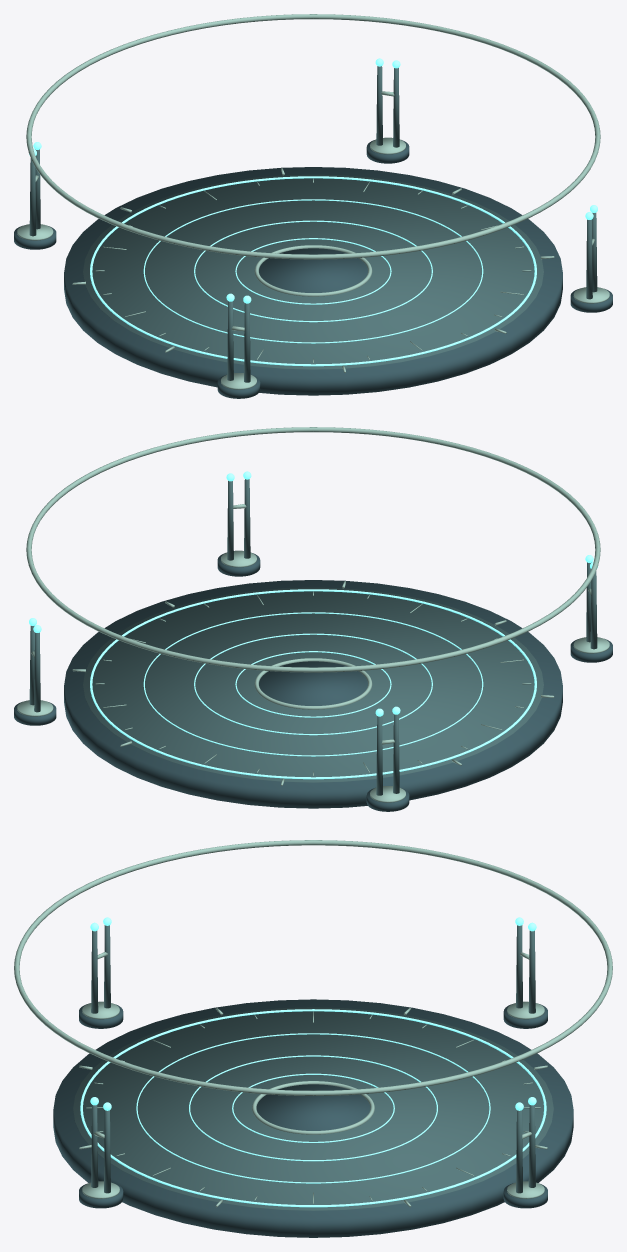
File: observatory.glb
3 renders of one model, top to bottom at view 1: azimuth 30°, elevation 25°; view 2: azimuth 150°, elevation 25°; view 3: azimuth 270°, elevation 25°, orthographic. The views are drawn at different scales.
Parts seen in each view (by area): view 1: walkable pearl slate disc, deep circular foundation, broken halo arc, central submerged well, survey distance circle.003, survey distance circle.002, bronze well lip, survey distance circle.001, survey distance circle, tuning fork prong.006, tuning fork prong.005; view 2: walkable pearl slate disc, deep circular foundation, broken halo arc, central submerged well, survey distance circle.003, survey distance circle.002, bronze well lip, survey distance circle.001, survey distance circle, tuning fork prong.001; view 3: walkable pearl slate disc, deep circular foundation, broken halo arc, central submerged well, survey distance circle.003, survey distance circle.002, bronze well lip, survey distance circle.001, survey distance circle, tuning fork prong, tuning fork prong.007, tuning fork prong.002 (+7 smaller).
Part boxes in pixels (x1,y1,x2,y2): walkable pearl slate disc: [83, 174, 543, 369]; deep circular foundation: [64, 167, 562, 395]; broken halo arc: [26, 14, 600, 259]; central submerged well: [259, 248, 367, 292]; survey distance circle.003: [90, 176, 536, 366]; survey distance circle.002: [143, 199, 483, 343]; bronze well lip: [254, 245, 372, 296]; survey distance circle.001: [194, 220, 432, 322]; survey distance circle: [235, 238, 391, 304]; tuning fork prong.006: [586, 219, 592, 299]; tuning fork prong.005: [244, 303, 250, 382]; walkable pearl slate disc: [83, 587, 543, 782]; deep circular foundation: [64, 580, 562, 808]; broken halo arc: [26, 427, 600, 672]; central submerged well: [259, 661, 367, 705]; survey distance circle.003: [90, 589, 536, 779]; survey distance circle.002: [143, 612, 483, 756]; bronze well lip: [254, 658, 372, 709]; survey distance circle.001: [194, 633, 432, 735]; survey distance circle: [235, 651, 391, 717]; tuning fork prong.001: [34, 632, 40, 712]; walkable pearl slate disc: [73, 1007, 553, 1210]; deep circular foundation: [53, 999, 573, 1237]; broken halo arc: [14, 840, 612, 1095]; central submerged well: [256, 1084, 370, 1130]; survey distance circle.003: [80, 1009, 546, 1207]; survey distance circle.002: [136, 1033, 490, 1183]; bronze well lip: [252, 1081, 374, 1134]; survey distance circle.001: [189, 1055, 437, 1161]; survey distance circle: [232, 1073, 394, 1142]; tuning fork prong: [516, 1110, 522, 1193]; tuning fork prong.007: [104, 1110, 110, 1193]; tuning fork prong.002: [528, 930, 535, 1013].
Bounding box in the file's own units: 31.9 × 9.55 × 31.9.
